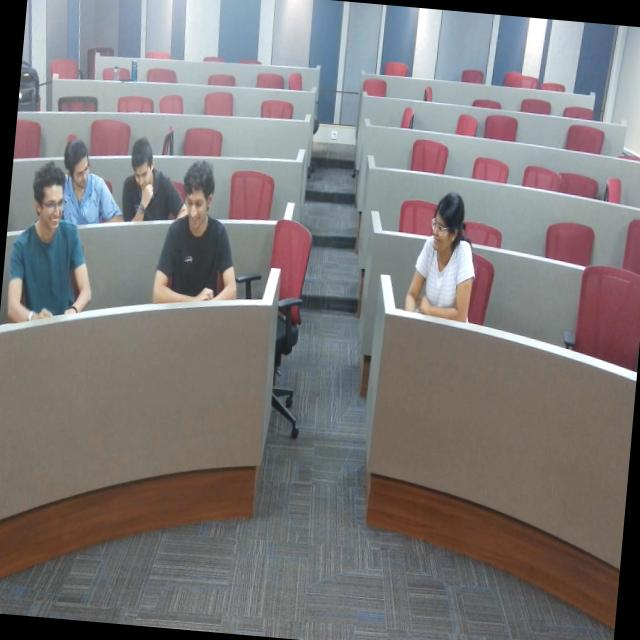cheating: (150, 160, 252, 322), (2, 164, 88, 348), (402, 185, 490, 332)
